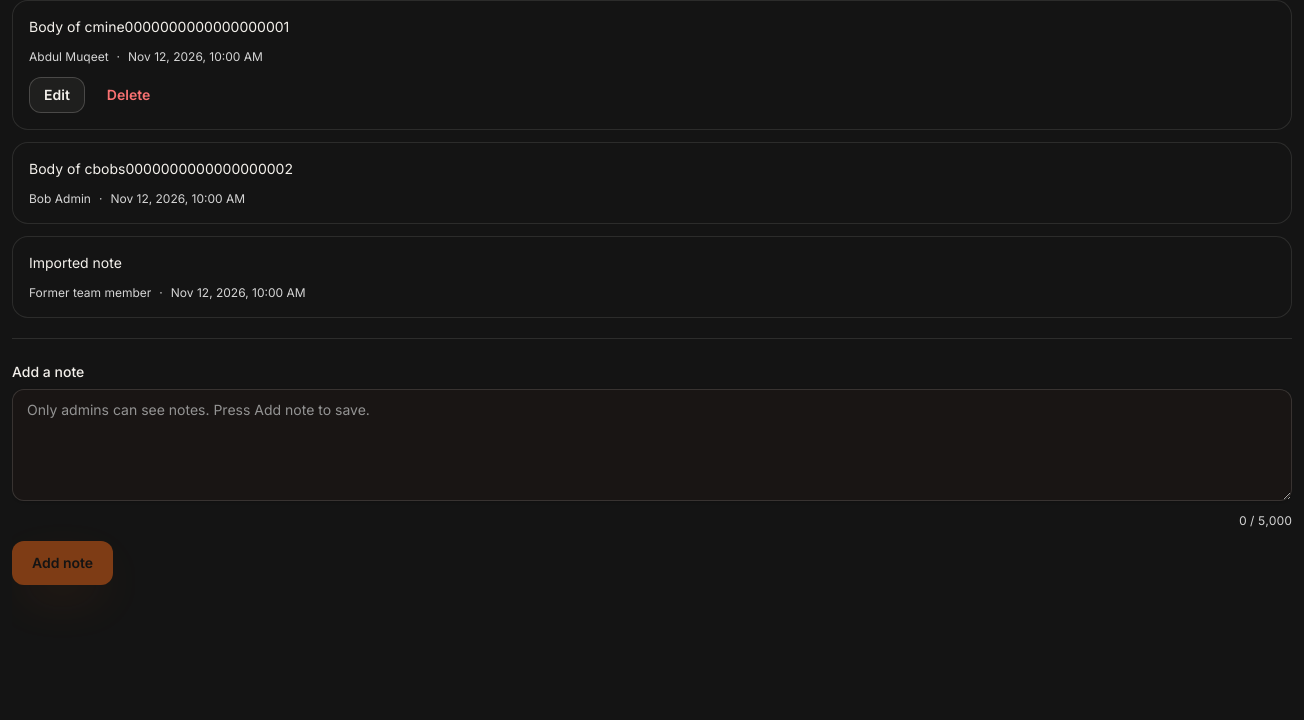
Test case: LeadNotesPanel: editing a note › cancelling discards the changes and sends nothing
The image size is (1304, 720).
Step 1. Click the button with aria-label "Edit note 1" → {"x": 57, "y": 95}, box [29,77,85,113]
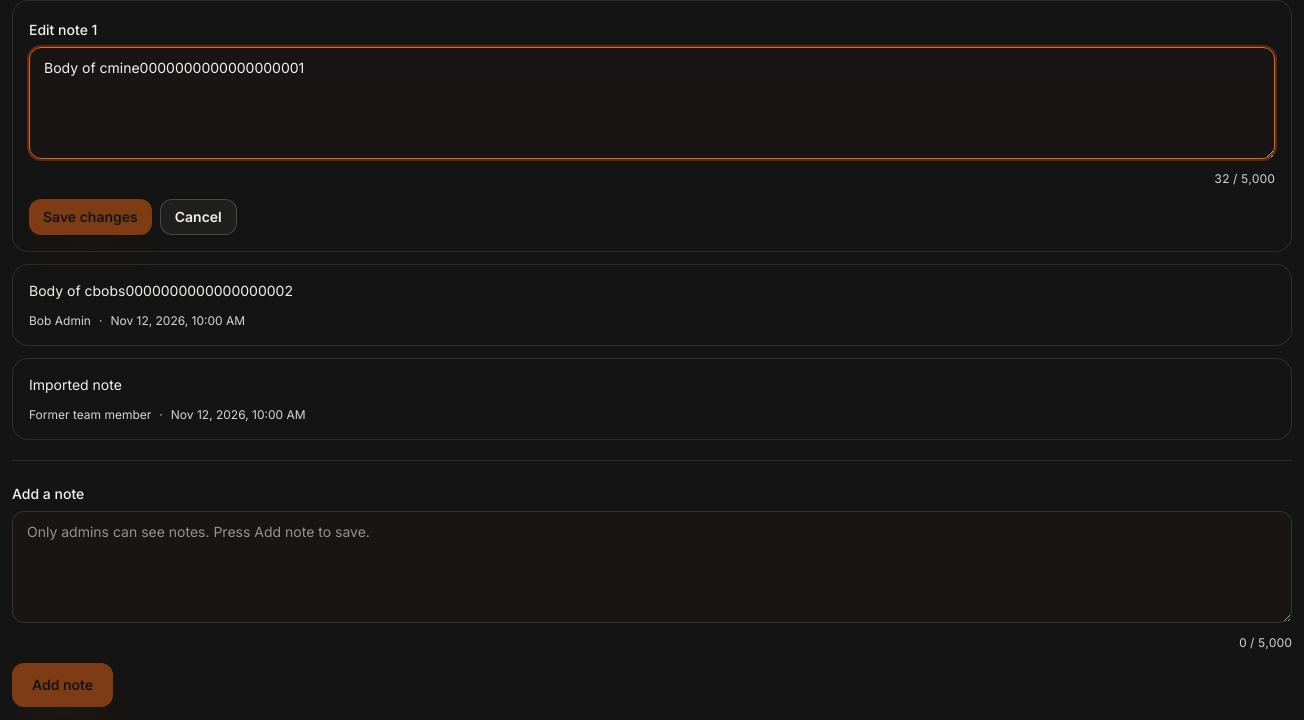
Step 2. Type " more" into the text box labelled "Edit note 1" → {"x": 652, "y": 103}, box [29,47,1275,159]
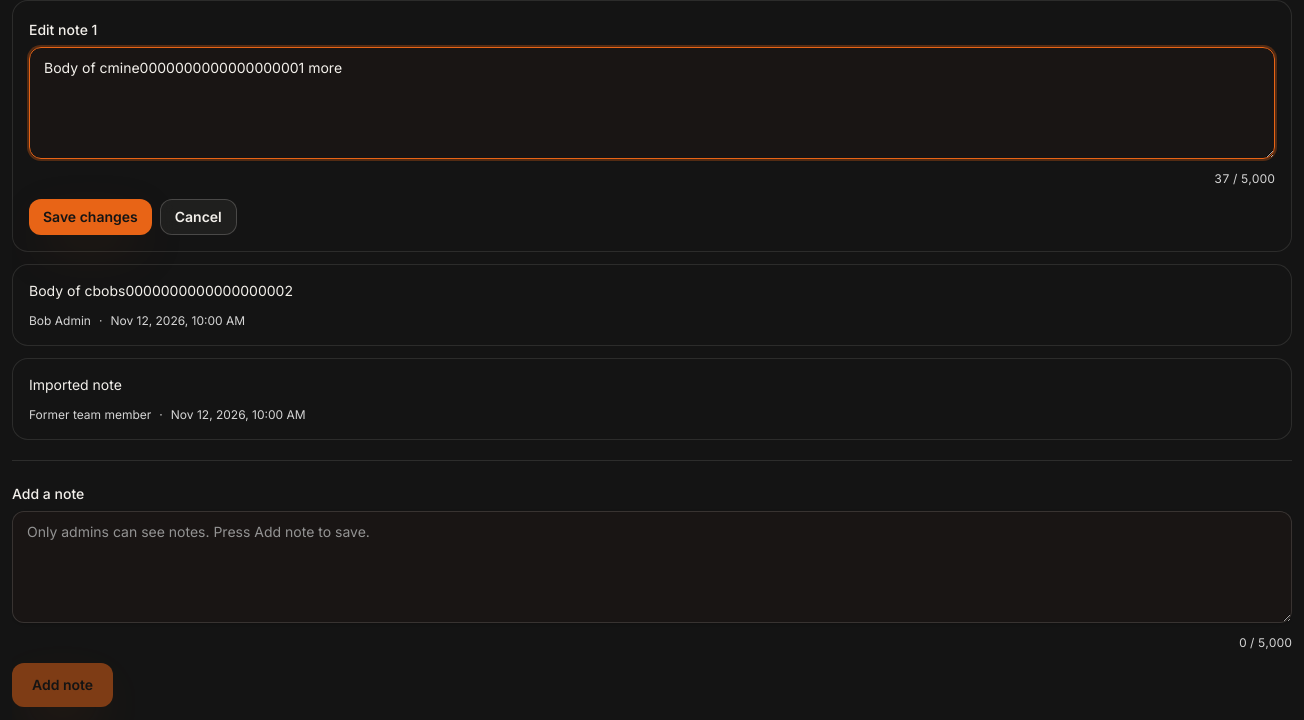
Step 3. Click the button "Cancel" → {"x": 198, "y": 217}, box [160,199,237,235]
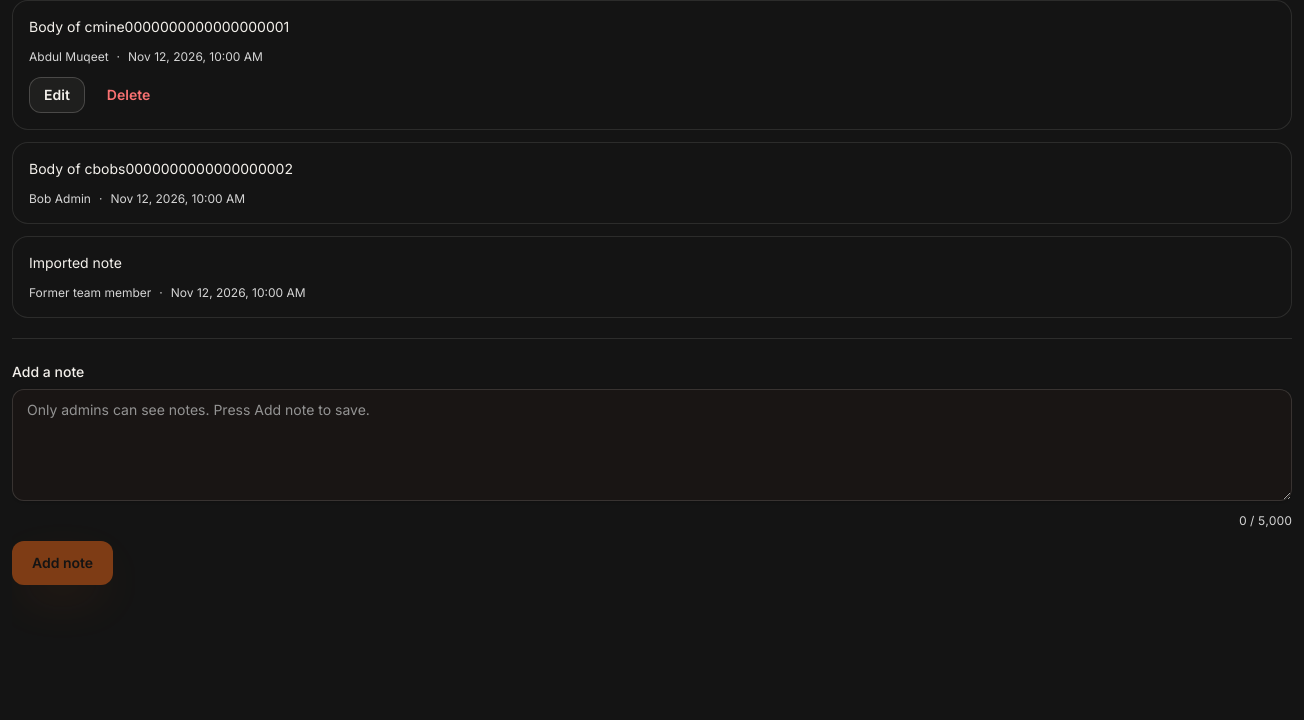
Expected: the text "Body of cmine0000000000000000001" is shown, [29,18,289,35]
Step 4. Click the button with aria-label "Edit note 1" → {"x": 57, "y": 95}, box [29,77,85,113]
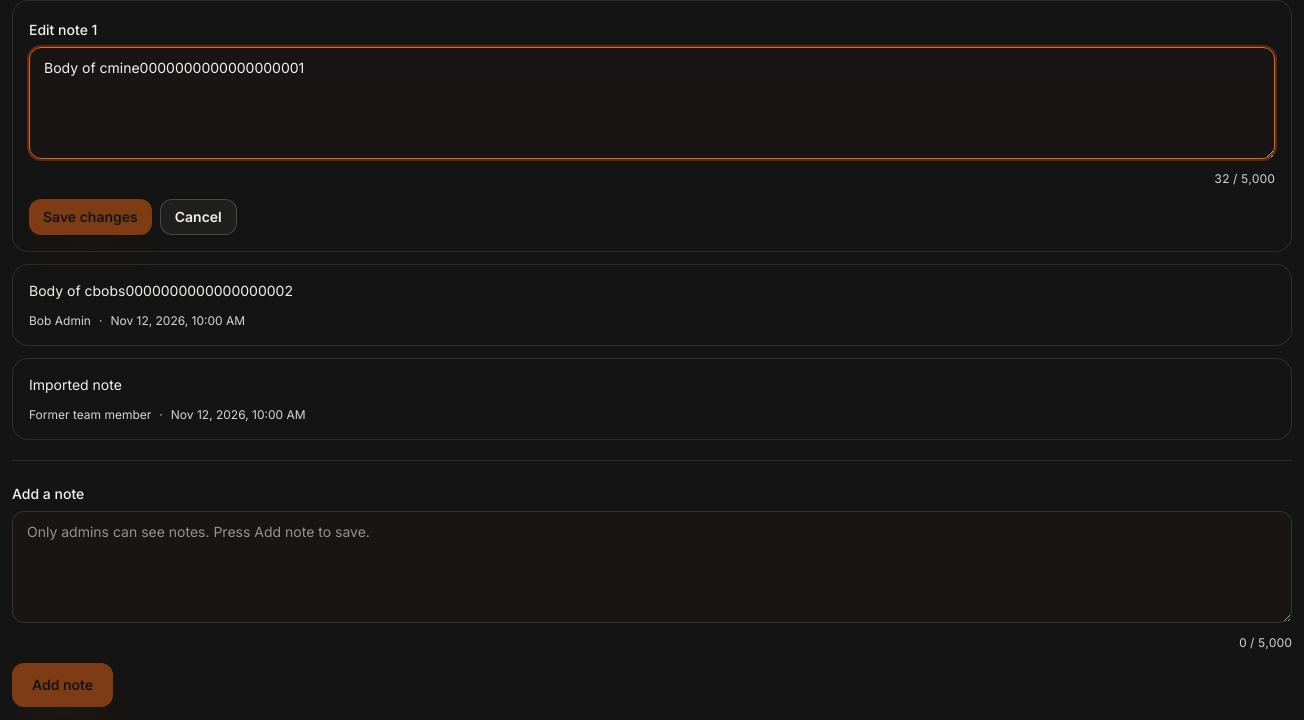
Expected: the text box labelled "Edit note 1" holds "Body of cmine0000000000000000001", [29,47,1275,159]
